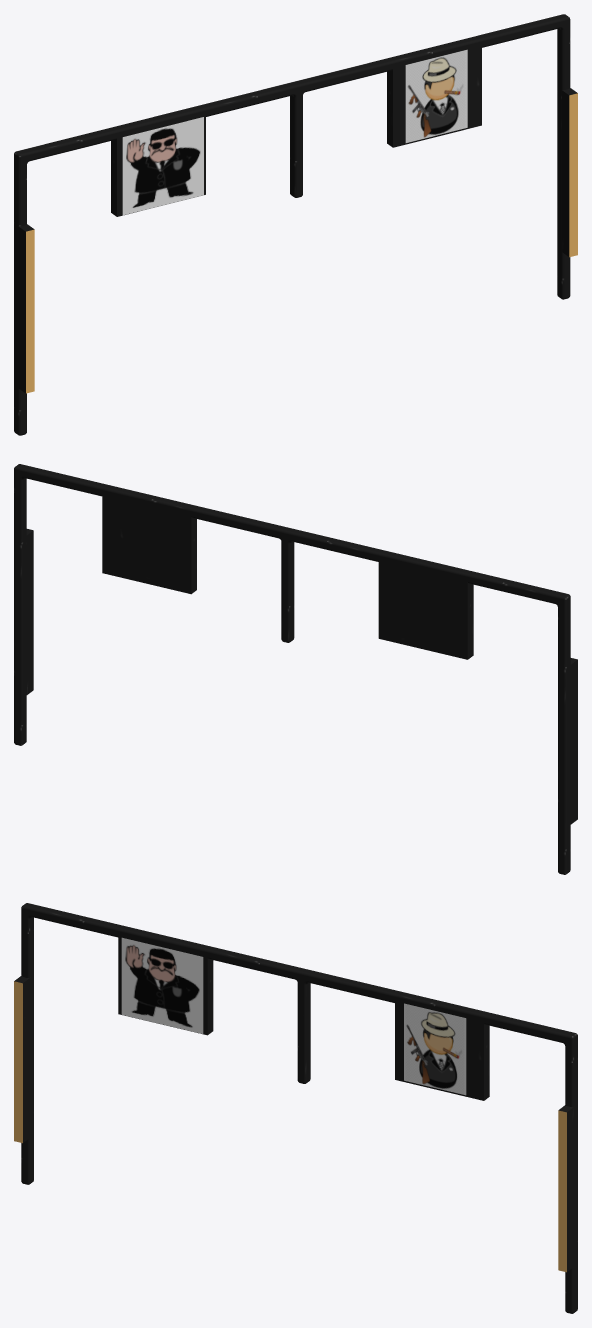
File: mygate1.dae
3 renders of one model, top to bottom at view 1: azimuth 30°, elevation 25°; view 2: azimuth 150°, elevation 25°; view 3: azimuth 330°, elevation 25°, orthographic.
Parts seen in each view (by area): view 1: Mygate, gmangate, bootleggergate; view 2: Mygate; view 3: Mygate, gmangate, bootleggergate.
Boxes of the visible parts, bbox=[...] form: Mygate: bbox=[14, 14, 577, 435]; gmangate: bbox=[122, 117, 203, 215]; bootleggergate: bbox=[405, 49, 467, 142]; Mygate: bbox=[14, 464, 577, 874]; Mygate: bbox=[14, 903, 577, 1313]; gmangate: bbox=[121, 937, 203, 1033]; bootleggergate: bbox=[404, 1003, 466, 1095].
Size of the model in its own units: 3.72 by 0.1895 by 1.8.
